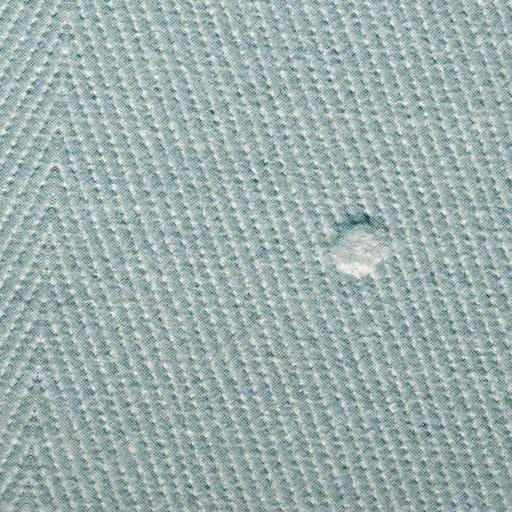knot: (328, 212, 402, 293)
